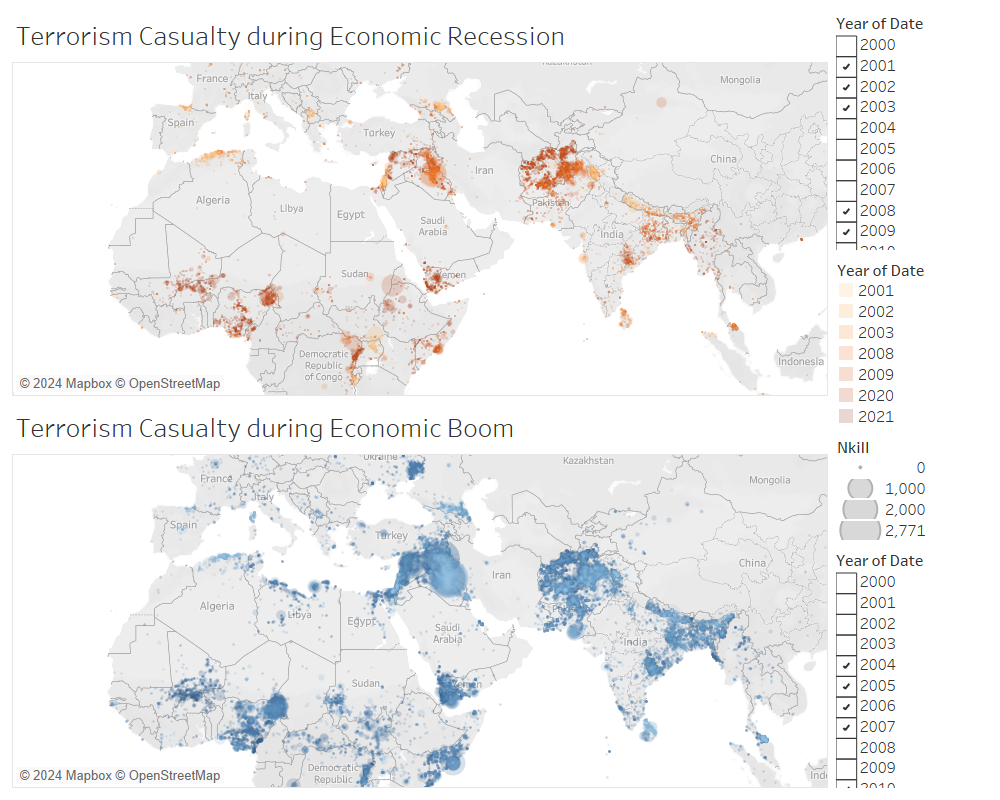

This screenshot's page, from the dashboard's own definition file:
{"tool":"tableau","page":{"name":"Dashboard 1","canvas":[1000,800],"ordinal":0},"visuals":[{"type":"worksheet","title":"Sheet 1","mark":"Automatic","rows":["latitude"],"cols":["longitude"],"box":[8,8,412,392]},{"type":"worksheet","title":"Sheet 1 (2)","mark":"Automatic","rows":["latitude"],"cols":["longitude"],"box":[420,8,412,392]},{"type":"legend","title":"Sheet 1","param":"[federated.0a733a2030vf771dsmdgn07bqao2].[none:AdhocCluster:1:ok]","box":[832,8,160,93]},{"type":"legend","title":"Sheet 1 (2)","param":"[federated.0a733a2030vf771dsmdgn07bqao2].[none:AdhocCluster:2:ok]","box":[832,101,160,51]},{"type":"legend","title":"Sheet 1 (3)","param":"[federated.0a733a2030vf771dsmdgn07bqao2].[none:AdhocCluster:3:ok]","box":[832,152,160,51]},{"type":"legend","title":"Sheet 1 (4)","param":"[federated.0a733a2030vf771dsmdgn07bqao2].[none:AdhocCluster:4:ok]","box":[832,203,160,51]},{"type":"worksheet","title":"Sheet 1 (3)","mark":"Automatic","rows":["latitude"],"cols":["longitude"],"box":[8,400,412,392]},{"type":"worksheet","title":"Sheet 1 (4)","mark":"Automatic","rows":["latitude"],"cols":["longitude"],"box":[420,400,412,392]}]}

Visuals, with their boxes in screenshot pixels (x1, y1, x2, y2), scaled from the page's 1000x800 canvas onto the 1000x800 screenshot:
"Sheet 1" worksheet: crop(8, 8, 420, 400)
"Sheet 1 (2)" worksheet: crop(420, 8, 832, 400)
"Sheet 1" legend: crop(832, 8, 992, 101)
"Sheet 1 (2)" legend: crop(832, 101, 992, 152)
"Sheet 1 (3)" legend: crop(832, 152, 992, 203)
"Sheet 1 (4)" legend: crop(832, 203, 992, 254)
"Sheet 1 (3)" worksheet: crop(8, 400, 420, 792)
"Sheet 1 (4)" worksheet: crop(420, 400, 832, 792)
